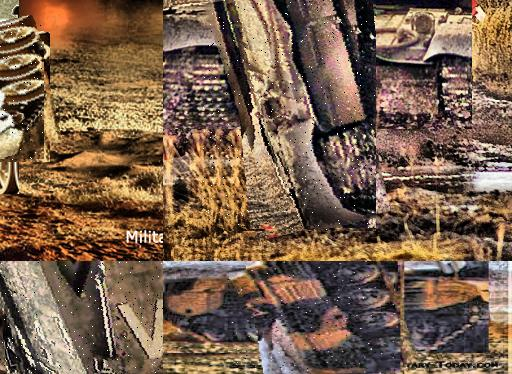tanks: (205, 1, 377, 231), (230, 262, 400, 374), (1, 262, 164, 374), (1, 16, 44, 159)
